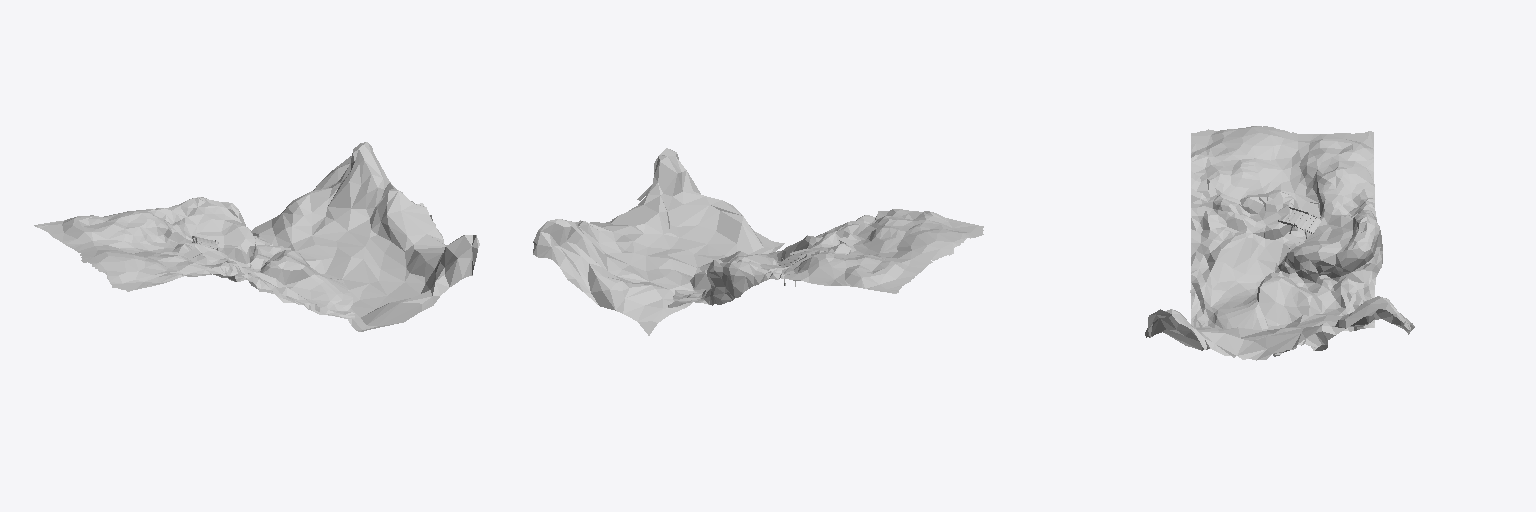
The model's file is mountain.obj.
3 views of the same model, side by side, from view 1: azimuth 30°, elevation 25°; view 2: azimuth 150°, elevation 25°; view 3: azimuth 270°, elevation 25° (orthographic).
Visible parts, largest first — view 1: Landscape.005, Landscape; view 2: Landscape.005, Landscape; view 3: Landscape, Landscape.005, Cube_Cube.001.
Part boxes in pixels (x1,y1,x2,y2): Landscape.005: (251, 142, 479, 331); Landscape: (34, 197, 354, 318); Landscape.005: (533, 148, 784, 335); Landscape: (668, 209, 983, 307); Landscape: (1190, 126, 1382, 331); Landscape.005: (1145, 296, 1414, 360); Cube_Cube.001: (1278, 207, 1320, 233).
Bounding box in the file's own units: 6.79 × 1.66 × 4.41.